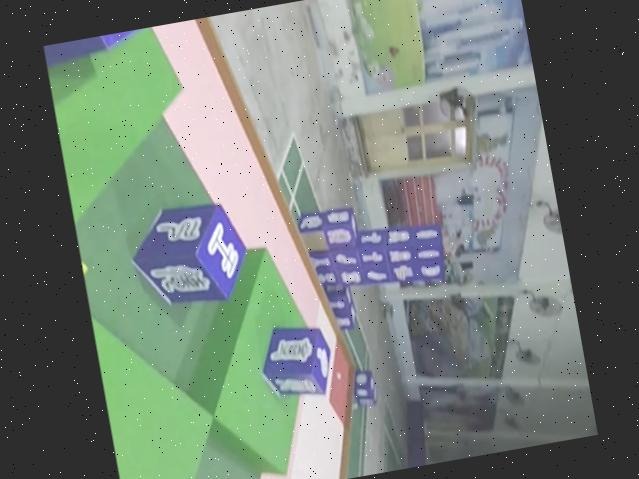R2 Fake Blue: (120, 198, 252, 320), (253, 319, 337, 406), (42, 24, 165, 68)
